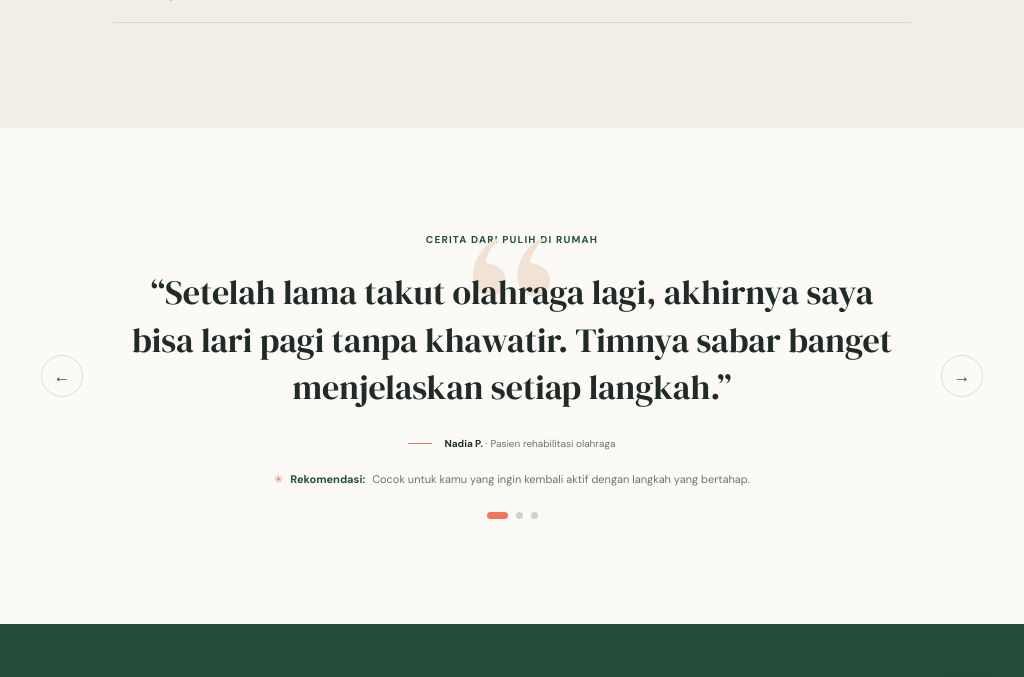
Test: lets visitors browse patient testimonials and recommendations
(page scrolled)
Expected: the text "lari pagi tanpa khawatir" is shown, top-left (132, 269), bottom-right (892, 410)
Click the button named "testimoni berikutnya" at (962, 376), box top-left (941, 355), bottom-right (983, 397)
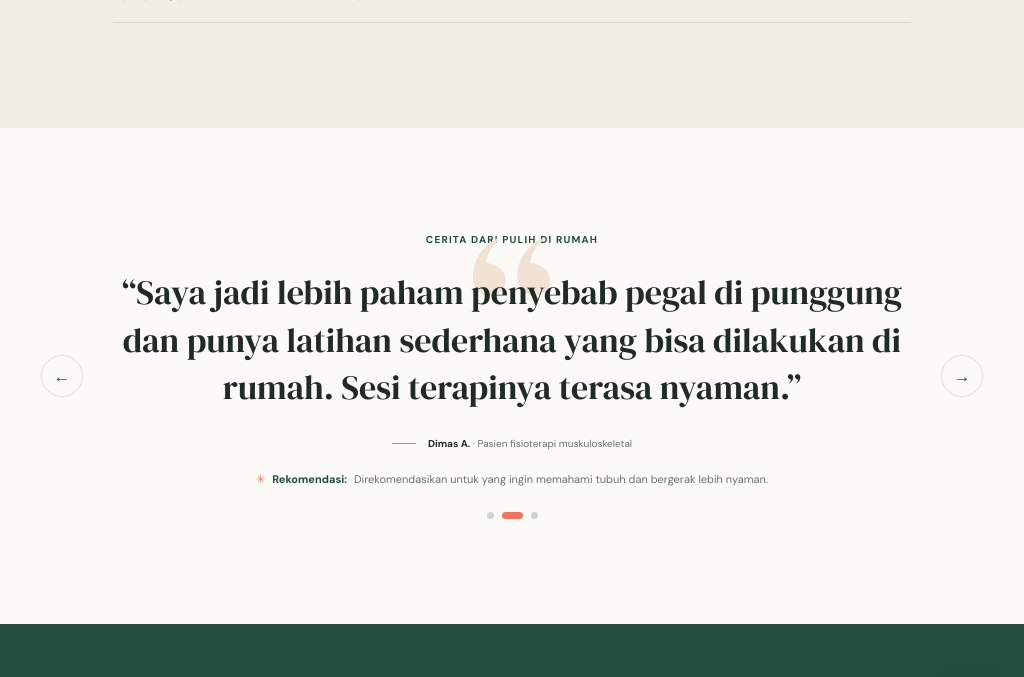
Now the text "latihan sederhana yang bisa dilakukan di rumah" is shown, box top-left (123, 269), bottom-right (902, 410)
Now the text "Direkomendasikan untuk yang ingin memahami tubuh" is shown, box top-left (354, 472), bottom-right (768, 486)
